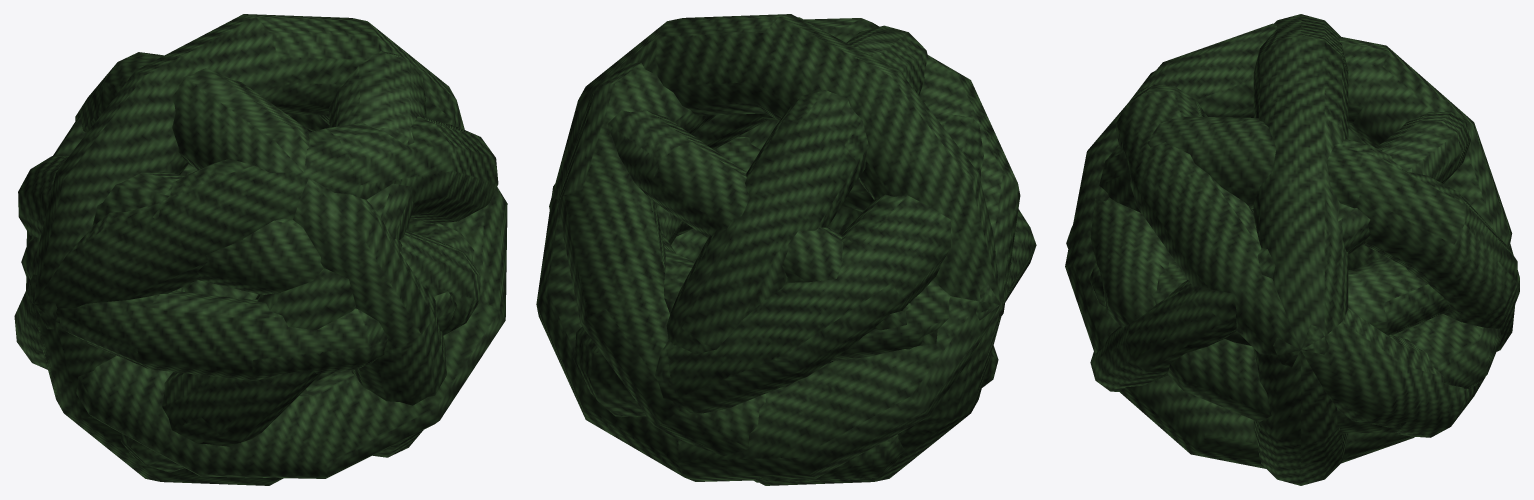
Rendered from BolaEstambe.fbx.
The picture shows the model from 3 angles, left to right: view 1: azimuth 30°, elevation 25°; view 2: azimuth 150°, elevation 25°; view 3: azimuth 270°, elevation 25°; orthographic projection. The views are drawn at different scales.
Parts seen in each view (by area): view 1: BolaEstambre; view 2: BolaEstambre; view 3: BolaEstambre.
Part boxes in pixels (x1,y1,x2,y2): BolaEstambre: (14, 14, 507, 485); BolaEstambre: (536, 14, 1036, 485); BolaEstambre: (1065, 14, 1519, 485).
Bounding box in the file's own units: 45.85 × 45.85 × 44.02.
Materials: 1 (1 with a texture image).
